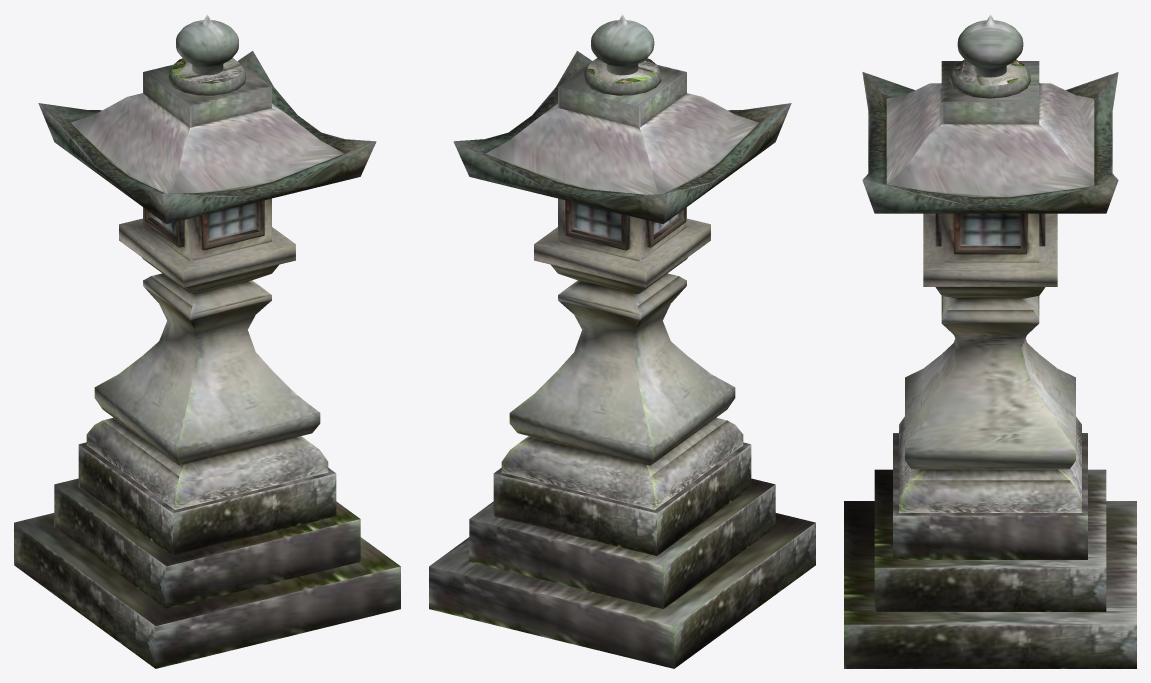
Rendered from JapaneseStoneLantern1.fbx.
3 views of the same model, side by side, from view 1: azimuth 30°, elevation 25°; view 2: azimuth 150°, elevation 25°; view 3: azimuth 270°, elevation 25° (orthographic). The views are drawn at different scales.
Visible parts, largest first — view 1: default; view 2: default; view 3: default.
Part boxes in pixels (x1,y1,x2,y2): default: [14, 14, 400, 668]; default: [429, 14, 815, 668]; default: [844, 14, 1136, 668].
Bounding box in the file's own units: 1200 × 2681 × 1200.
